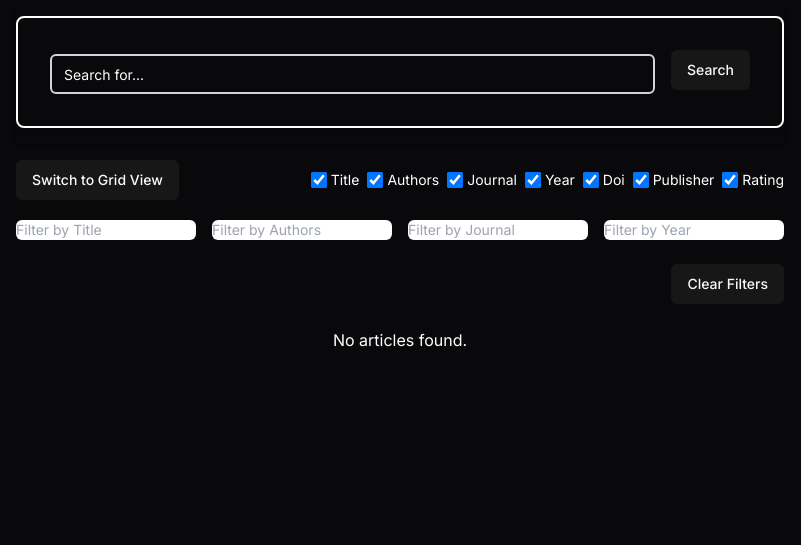
Test case: SearchPage › renders articles fetched from the API upon form submission
# Simulate user input and form submission
Type "search query" into the field with placeholder "Search for..." at (352, 74), box [50,54,655,94]
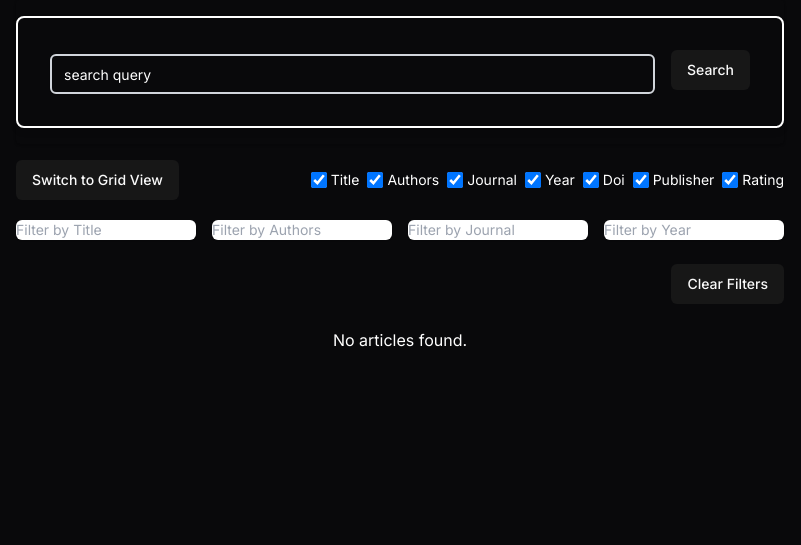
Click the button "Search" at (710, 70), box [671,50,750,90]
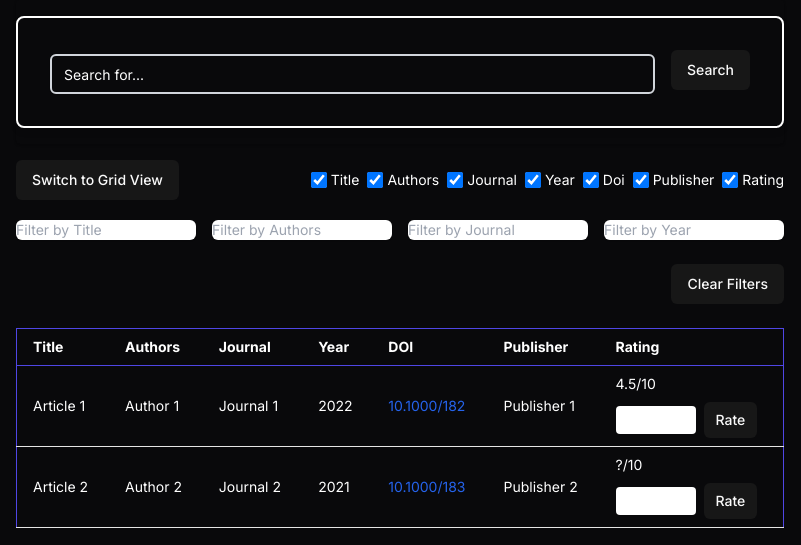
Expected: the text "Article 1" is shown, [16,366,109,446]
Expected: the text "Article 2" is shown, [16,446,109,528]
